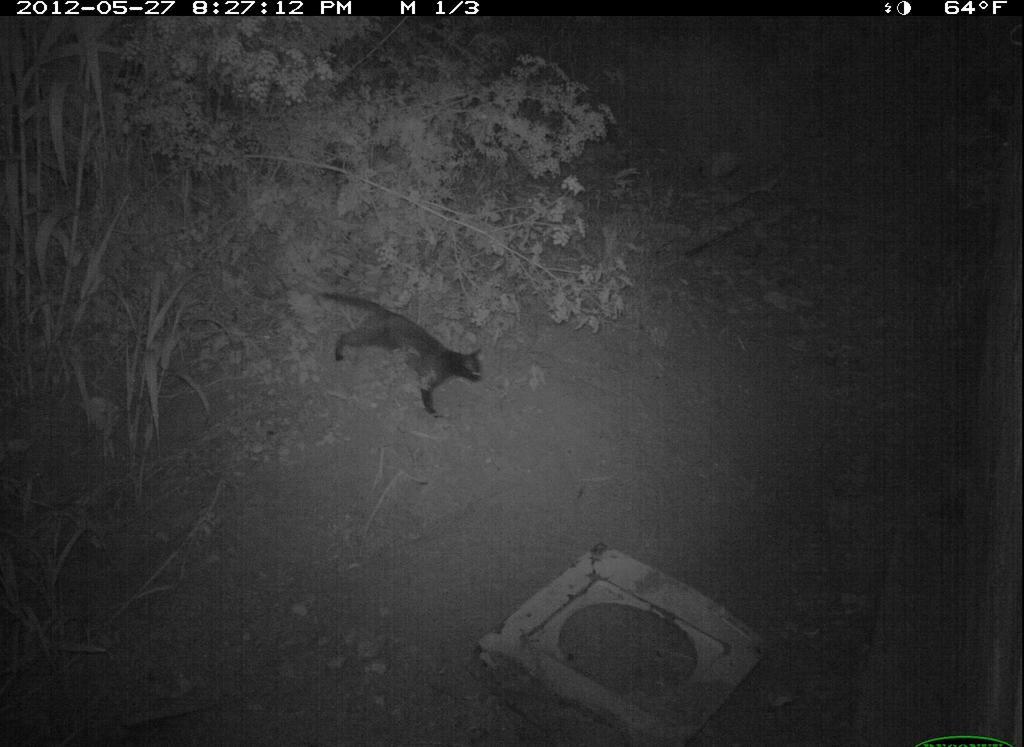cat: (304, 274, 509, 432)
